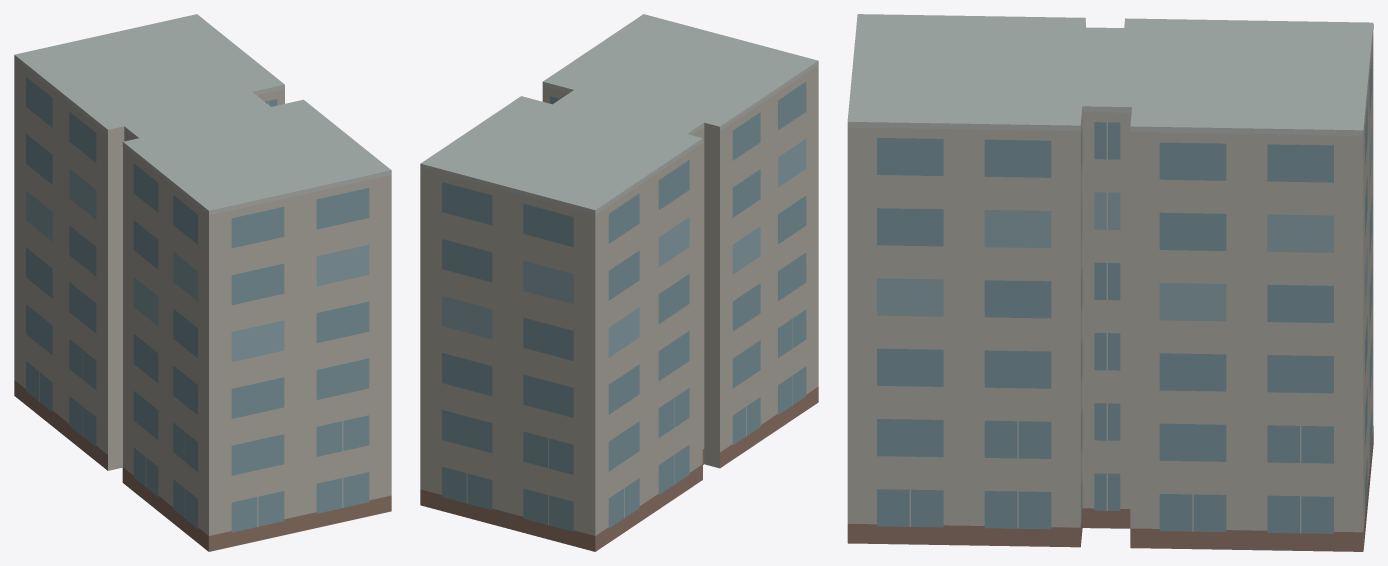
The model's file is survey-upis-33017779.glb.
3 views of the same model, side by side, from view 1: azimuth 30°, elevation 25°; view 2: azimuth 150°, elevation 25°; view 3: azimuth 270°, elevation 25° (orthographic). The views are drawn at different scales.
Parts seen in each view (by area): view 1: survey-upis-33017779.tmp; view 2: survey-upis-33017779.tmp; view 3: survey-upis-33017779.tmp.
Part boxes in pixels (left/top/right/bottom): survey-upis-33017779.tmp: left=14, top=14, right=391, bottom=551; survey-upis-33017779.tmp: left=420, top=14, right=818, bottom=551; survey-upis-33017779.tmp: left=847, top=14, right=1373, bottom=551.
Bounding box in the file's own units: 10.83 × 18.3 × 20.7.
